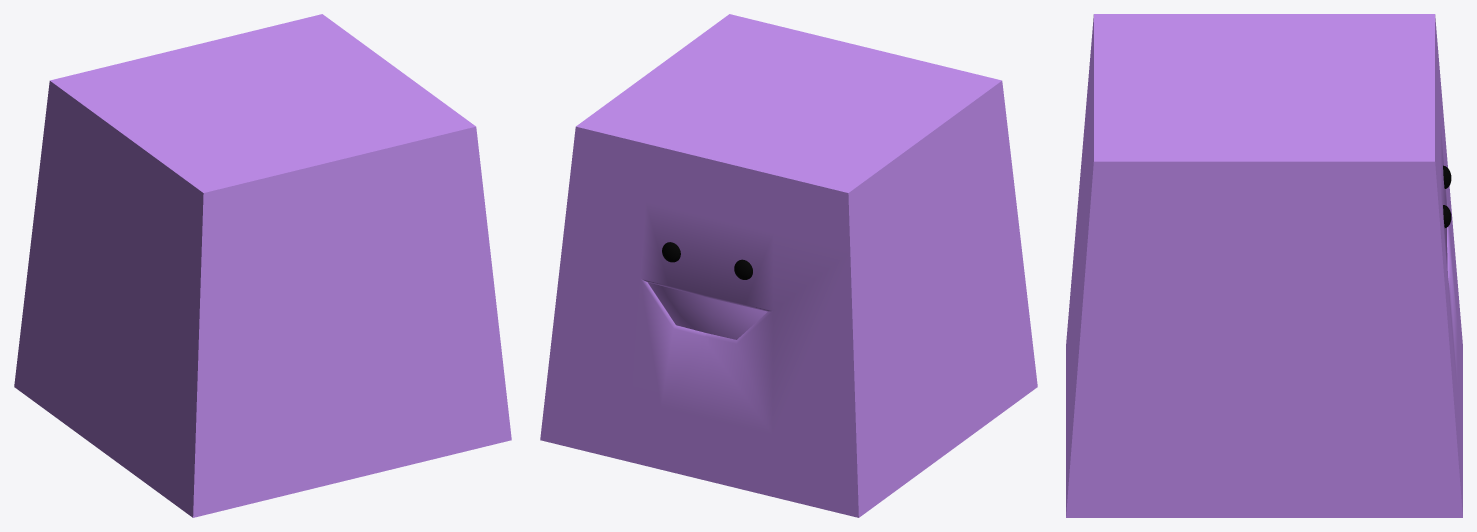
3 renders of one model, left to right at view 1: azimuth 30°, elevation 25°; view 2: azimuth 150°, elevation 25°; view 3: azimuth 270°, elevation 25°, orthographic. The views are drawn at different scales.
Visible parts, largest first — view 1: 몸통; view 2: 몸통, Sphere, eyes; view 3: 몸통.
Part boxes in pixels (x1,y1,x2,y2): 몸통: (14,14,511,517); 몸통: (540,14,1037,517); Sphere: (648,282,767,339); eyes: (662,242,752,279); 몸통: (1066,14,1462,517).
Bounding box in the file's own units: 21.13 × 19.64 × 20.54.
